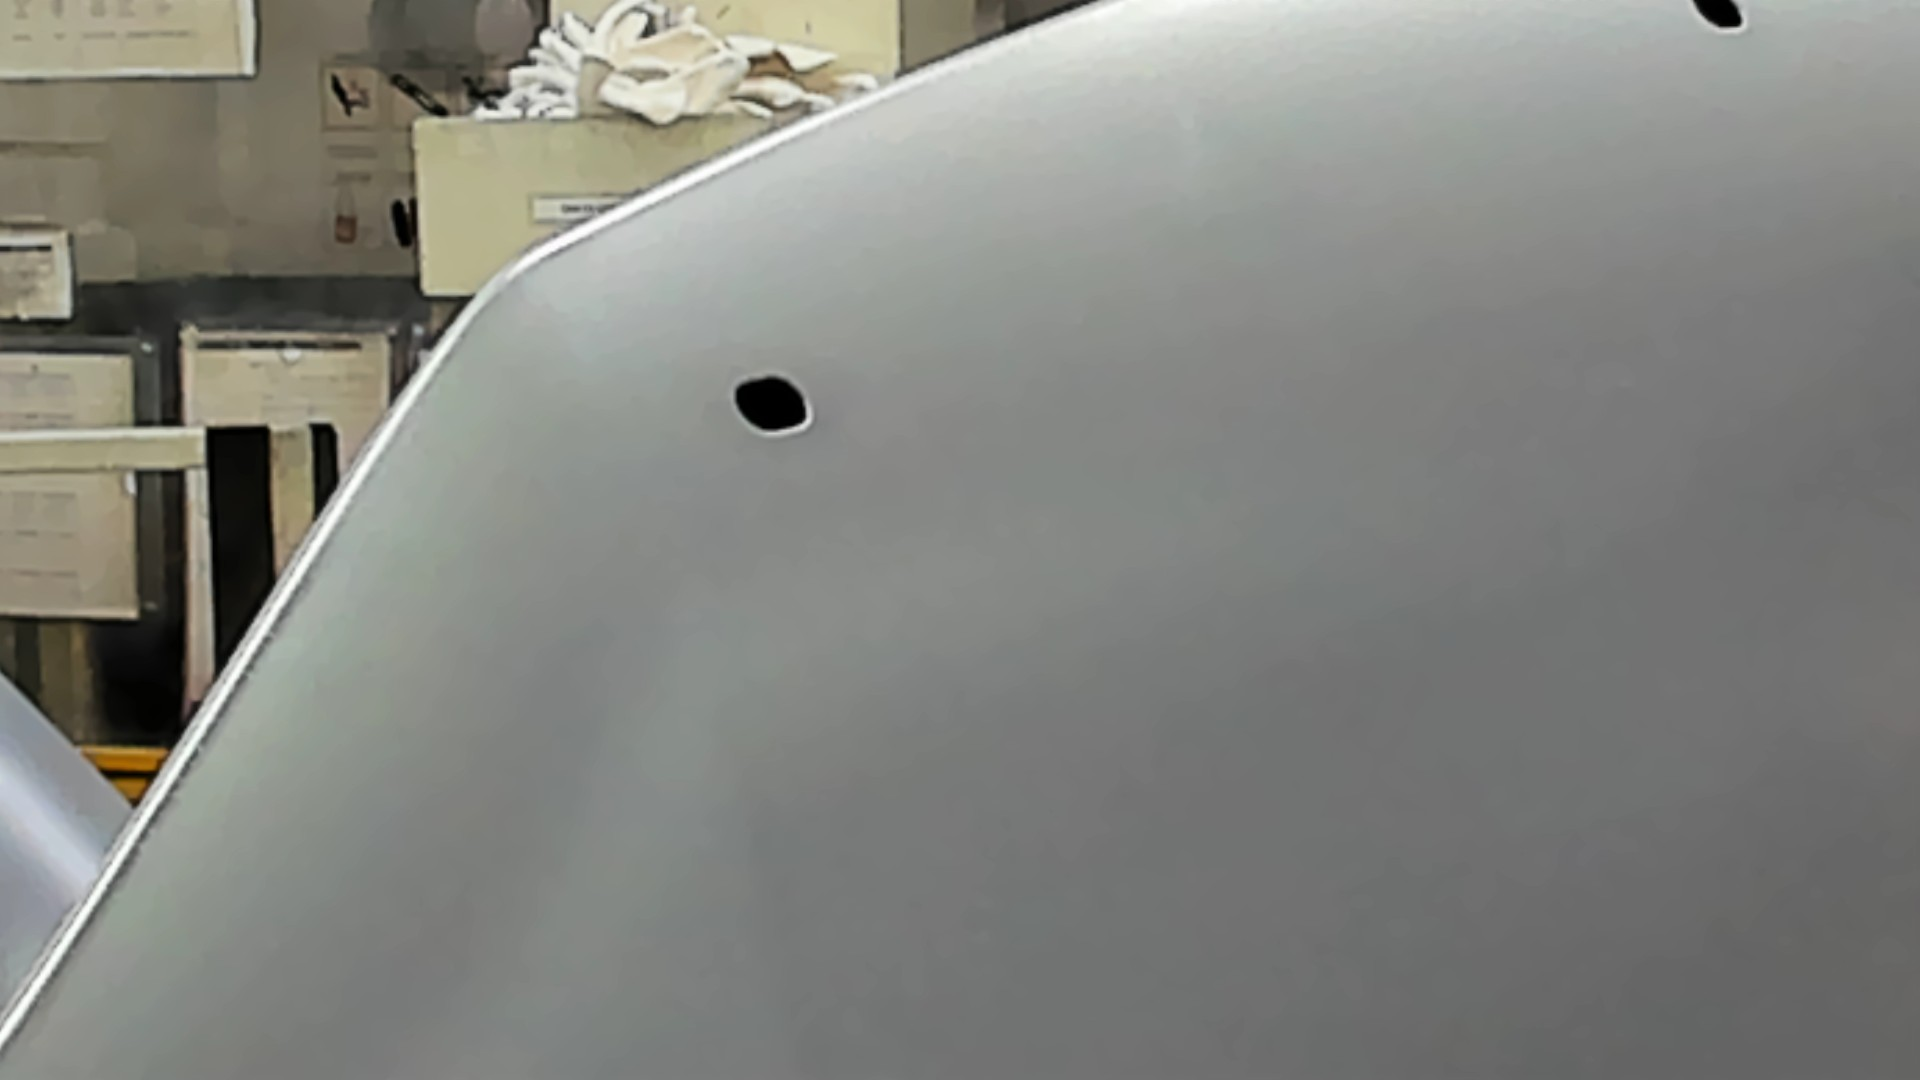amorfo: (728, 369, 816, 444), (1693, 1, 1753, 41)
